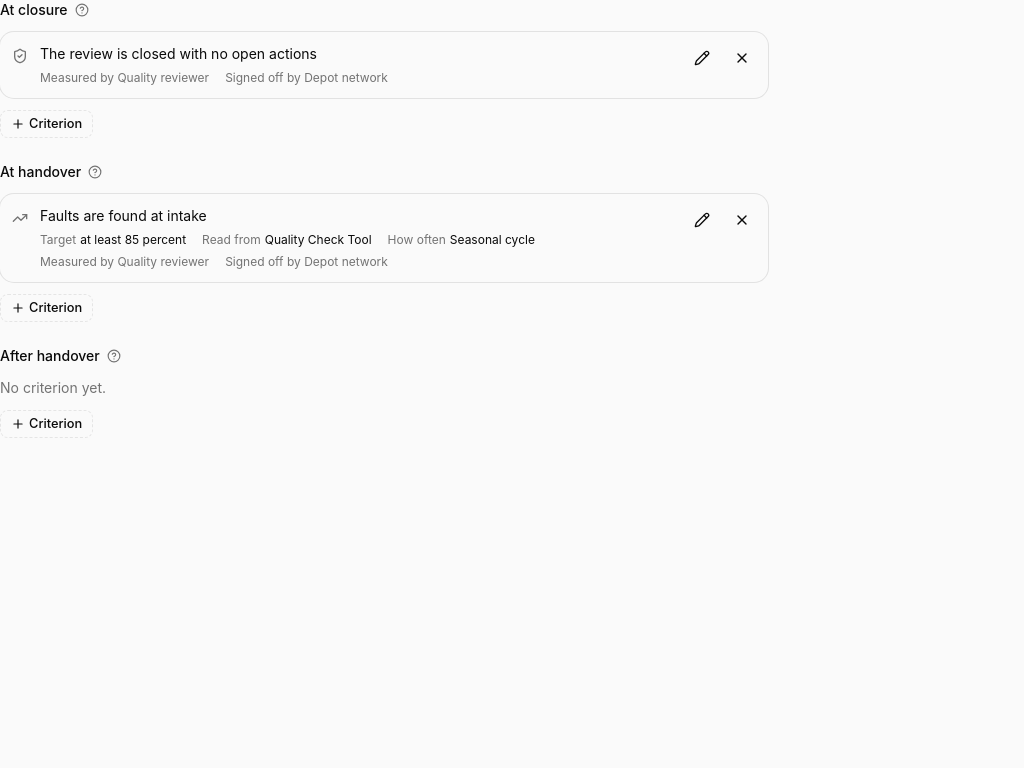
Test: the add dialog asks the five questions › walks the outcome, the measure, the method, the tracker and the confirmer
Expected: the text "Faults are found at intake" is shown, left=40, top=207, right=207, bottom=224
Click the button with aria-label "Add a criterion" at (47, 124), box left=0, top=110, right=93, bottom=138
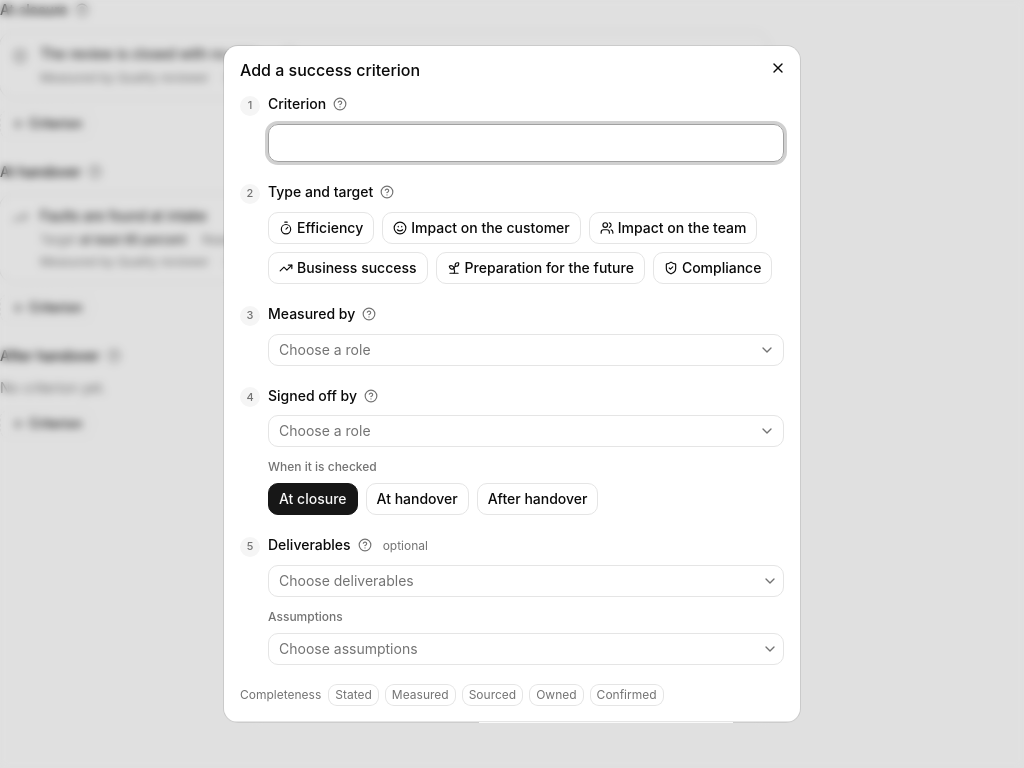
Result: the heading "Add a success criterion" is shown at left=240, top=60, right=420, bottom=80
Result: the text "Criterion" is shown at left=268, top=94, right=326, bottom=114
Result: the text "Type and target" is shown at left=268, top=182, right=373, bottom=202
